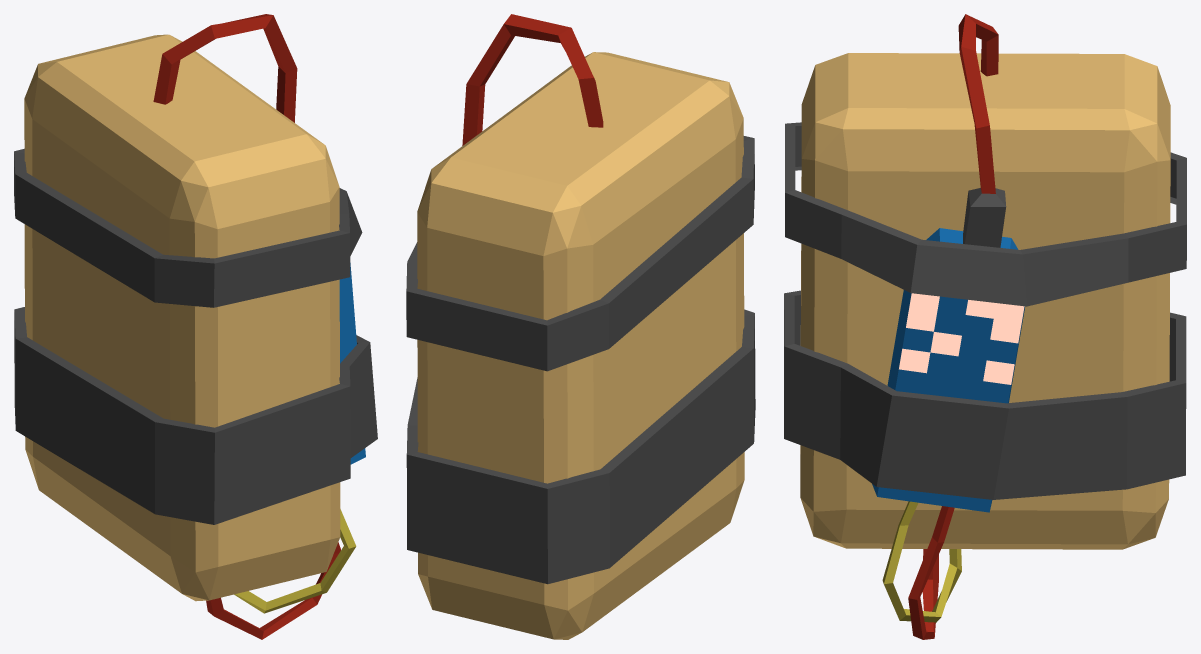
The model's file is Granada_Mina.fbx.
3 renders of one model, left to right at view 1: azimuth 30°, elevation 25°; view 2: azimuth 150°, elevation 25°; view 3: azimuth 270°, elevation 25°, orthographic. The views are drawn at different scales.
Parts seen in each view (by area): view 1: c4; view 2: c4; view 3: c4.
Boxes of the visible parts, box(x1,y1,x2,y2) form: c4: box(14, 14, 377, 639); c4: box(406, 14, 755, 639); c4: box(784, 14, 1186, 639).
Bounding box in the file's own units: 1.32 × 3.2 × 1.92.
